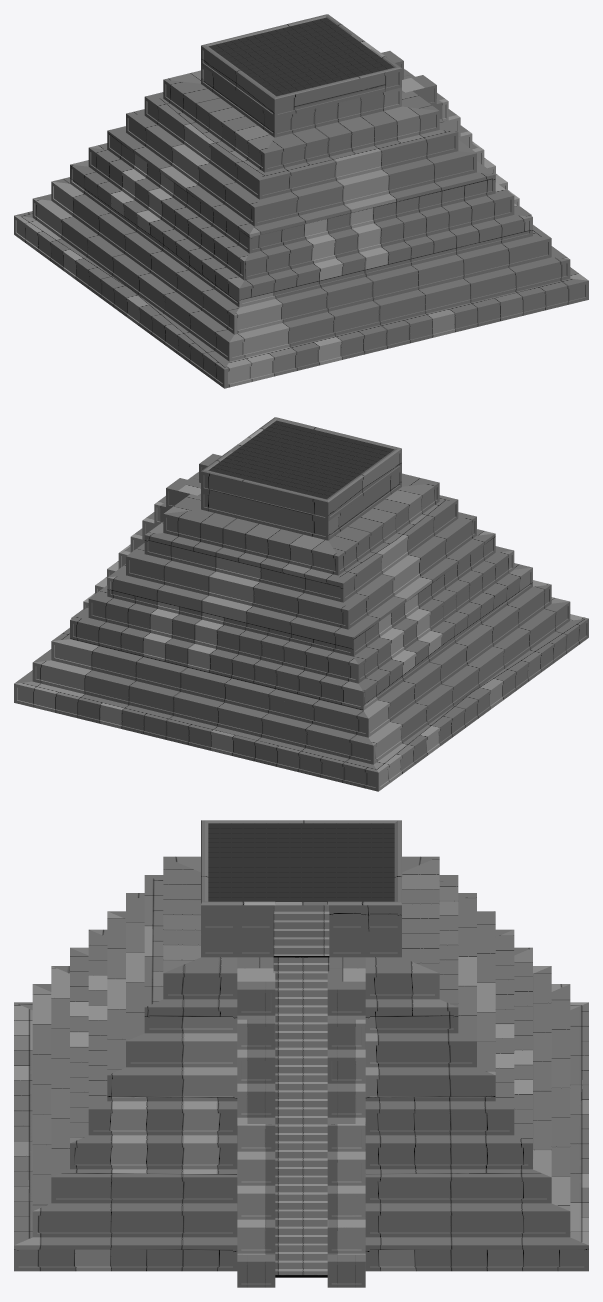
File: Templo_Jaguar_v2.glb
3 renders of one model, top to bottom at view 1: azimuth 30°, elevation 25°; view 2: azimuth 150°, elevation 25°; view 3: azimuth 270°, elevation 25°, orthographic. The views are drawn at different scales.
Visible parts, largest first — view 1: Templo_Jaguar_v2_BASE, Templo_Jaguar_v2_PISO, Templo_Jaguar_v2_BLOQUES; view 2: Templo_Jaguar_v2_BASE, Templo_Jaguar_v2_PISO, Templo_Jaguar_v2_BLOQUES; view 3: Templo_Jaguar_v2_BASE, Templo_Jaguar_v2_BLOQUES, Templo_Jaguar_ESCALERAS, Templo_Jaguar_v2_PISO.
Boxes of the visible parts, x1=… form: Templo_Jaguar_v2_BASE: x1=14, y1=14, x2=588, y2=388; Templo_Jaguar_v2_PISO: x1=208, y1=17, x2=394, y2=96; Templo_Jaguar_v2_BLOQUES: x1=381, y1=51, x2=531, y2=215; Templo_Jaguar_v2_BASE: x1=14, y1=417, x2=588, y2=791; Templo_Jaguar_v2_PISO: x1=208, y1=420, x2=394, y2=499; Templo_Jaguar_v2_BLOQUES: x1=71, y1=454, x2=221, y2=618; Templo_Jaguar_v2_BASE: x1=14, y1=820, x2=588, y2=1271; Templo_Jaguar_v2_BLOQUES: x1=237, y1=957, x2=365, y2=1287; Templo_Jaguar_ESCALERAS: x1=273, y1=905, x2=329, y2=1277; Templo_Jaguar_v2_PISO: x1=208, y1=823, x2=394, y2=901.
Bounding box in the file's own units: 85.17 × 44.21 × 79.82.
Materials: 4 (3 with a texture image).
